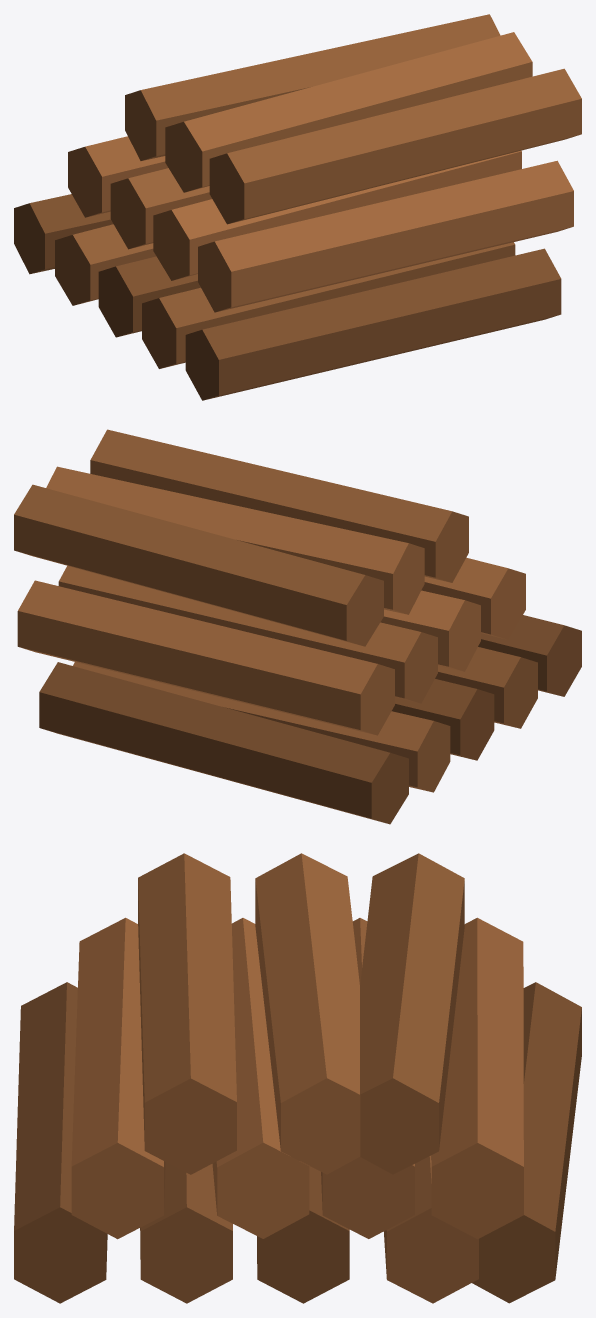
File: woodpile.glb
3 views of the same model, one above another, from view 1: azimuth 30°, elevation 25°; view 2: azimuth 150°, elevation 25°; view 3: azimuth 270°, elevation 25° (orthographic). The views are drawn at different scales.
Visible parts, largest first — view 1: foliage/woodpile; view 2: foliage/woodpile; view 3: foliage/woodpile.
Part boxes in pixels (x1,y1,x2,y2): foliage/woodpile: [14, 14, 581, 400]; foliage/woodpile: [14, 429, 581, 824]; foliage/woodpile: [14, 853, 581, 1303].
Size of the model in its own units: 1.21 by 0.56 by 1.07.
